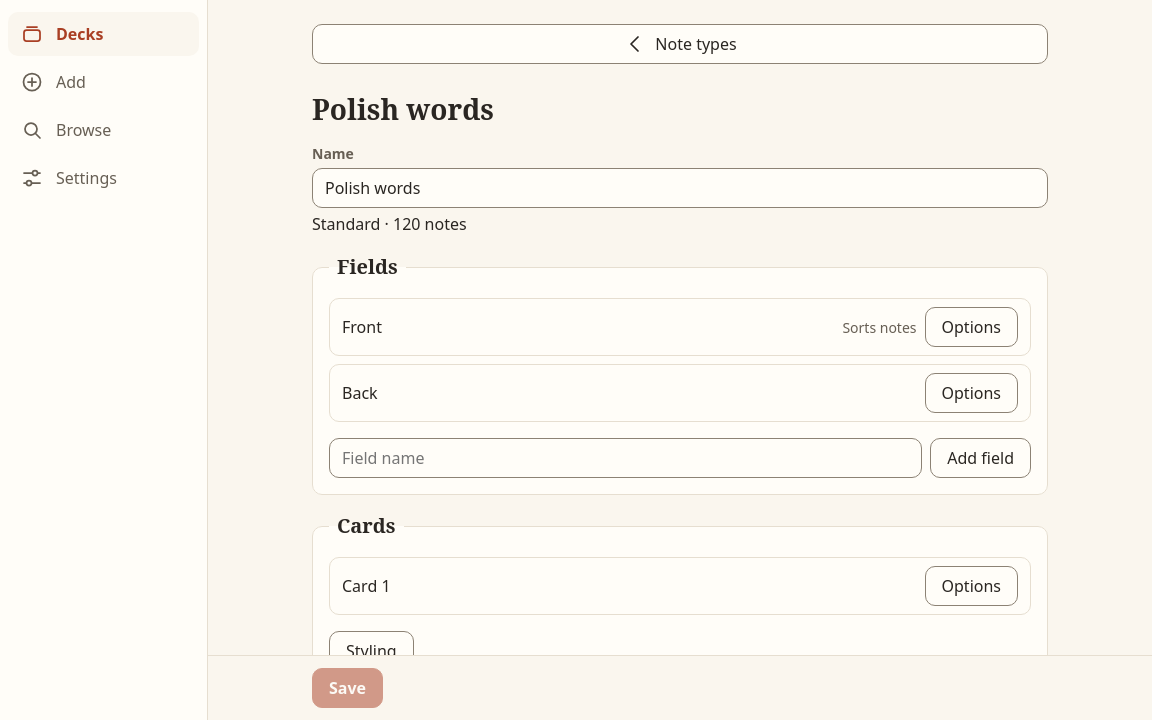
Test case: the template box › Show if... wraps the selection
Expected: the field labelled "Name" is shown, [312,168,1048,208]
Click the button with aria-label "Options for Card 1" at (971, 586), box [924,566,1018,606]
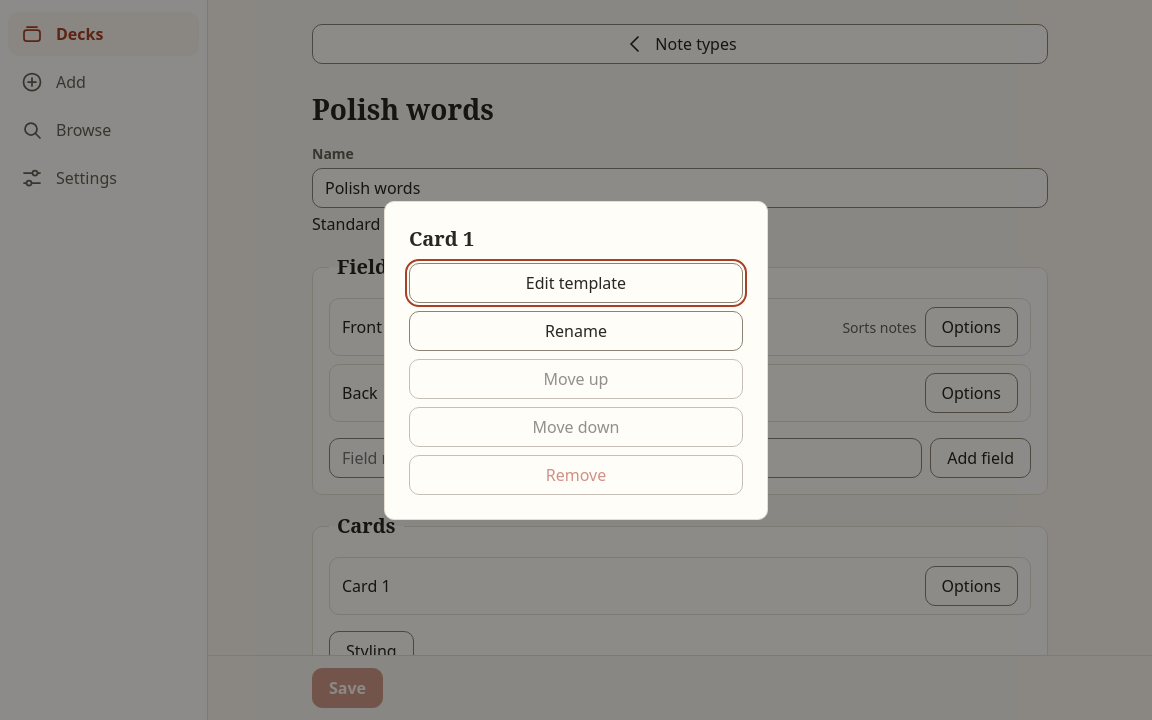
Click the button "Edit template" at (576, 282), box [409,262,743,302]
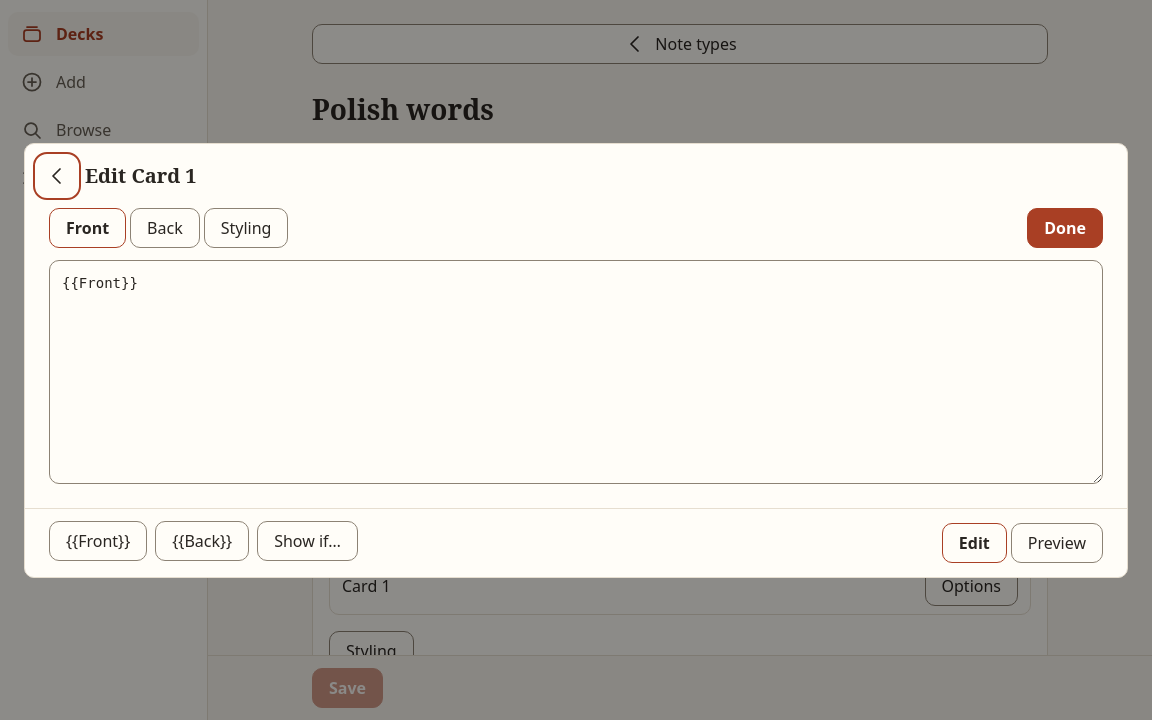
Click the button "Show if…" at (308, 540), box [257,520,358,560]
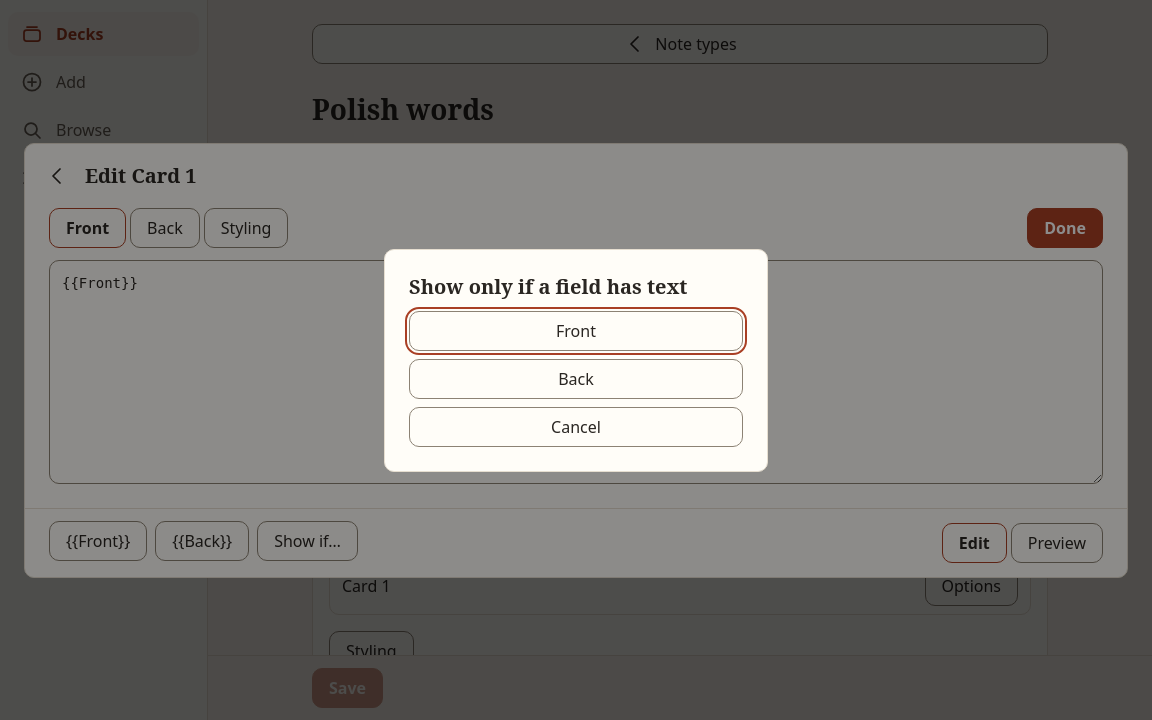
Click the button "Back" at (576, 378), box [409,358,743,398]
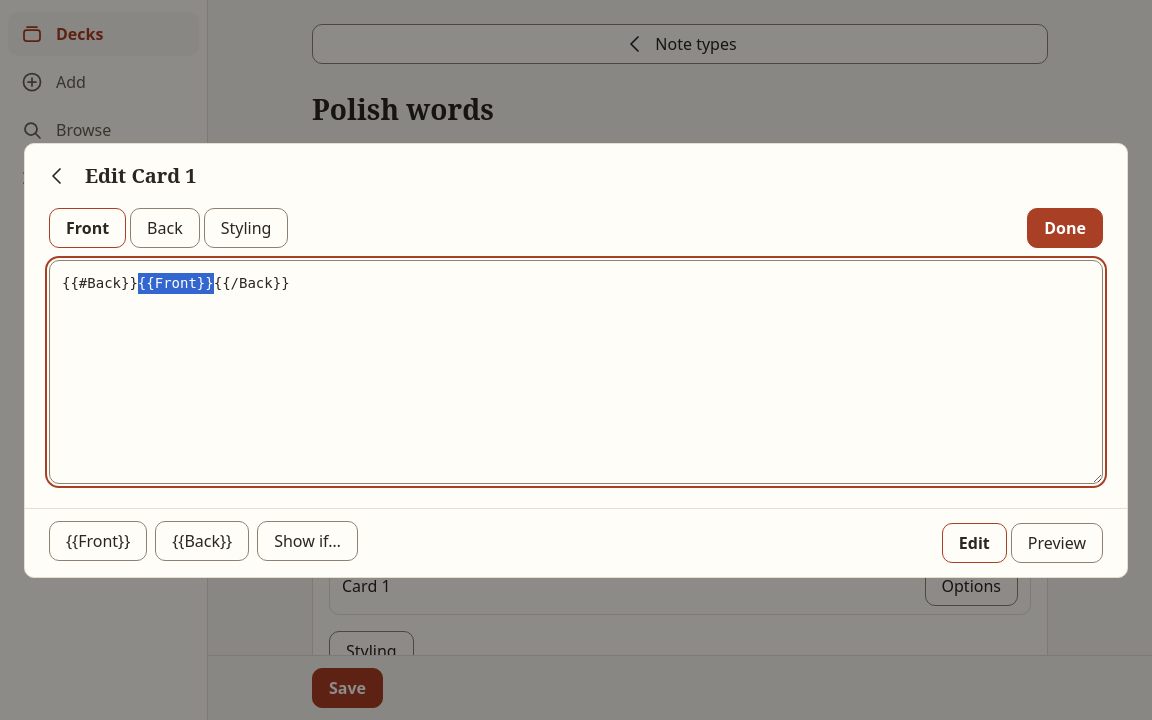
Result: the text box named "Front template" holds "{{#Back}}{{Front}}{{/Back}}" at [49,260,1103,484]
